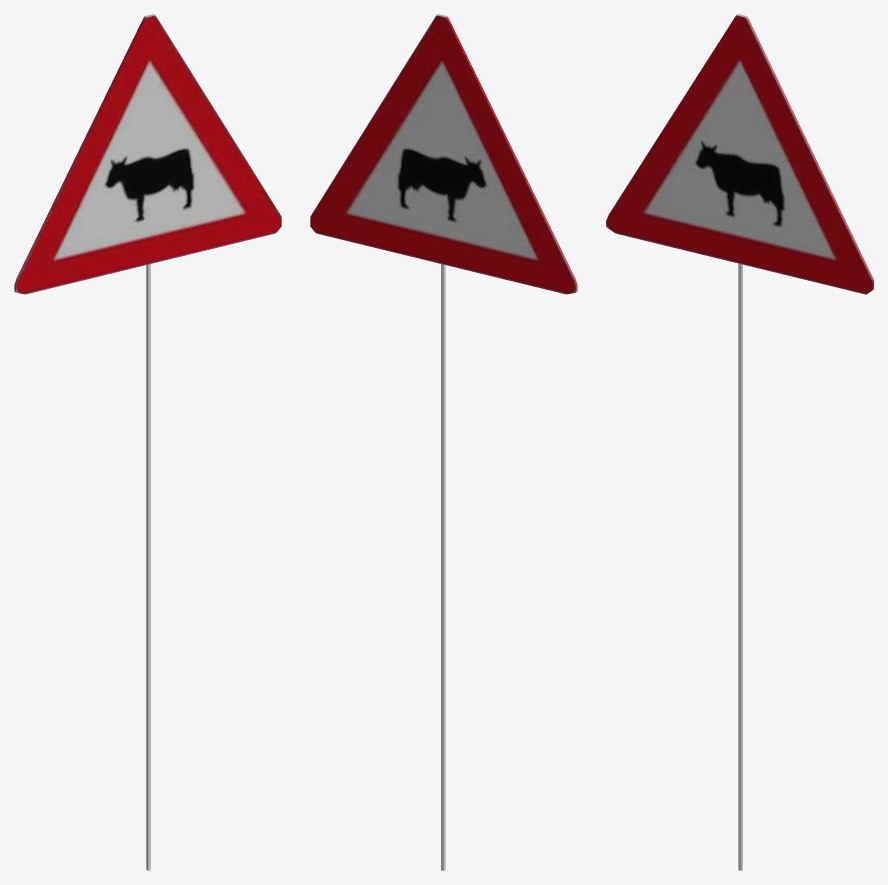
The model's file is trafik_levha_hayvan.obj.
The picture shows the model from 3 angles, left to right: view 1: azimuth 30°, elevation 25°; view 2: azimuth 150°, elevation 25°; view 3: azimuth 330°, elevation 25°; orthographic projection.
Visible parts, largest first — view 1: Mesh1 Group2 Group1 Model, Mesh2 Group3 Group1 Model; view 2: Mesh1 Group2 Group1 Model, Mesh2 Group3 Group1 Model; view 3: Mesh1 Group2 Group1 Model, Mesh2 Group3 Group1 Model.
Part boxes in pixels (x1,y1,x2,y2): Mesh1 Group2 Group1 Model: [14, 14, 281, 294]; Mesh2 Group3 Group1 Model: [146, 264, 150, 870]; Mesh1 Group2 Group1 Model: [310, 14, 577, 294]; Mesh2 Group3 Group1 Model: [441, 264, 445, 870]; Mesh1 Group2 Group1 Model: [606, 14, 873, 294]; Mesh2 Group3 Group1 Model: [738, 263, 742, 870].
Size of the model in its own units: 918 by 2817 by 10.
2 materials, 1 textured.
